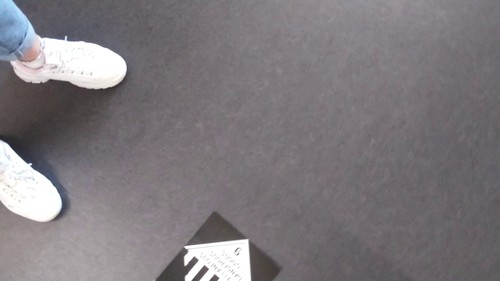misgoods: (173, 233, 284, 281)
